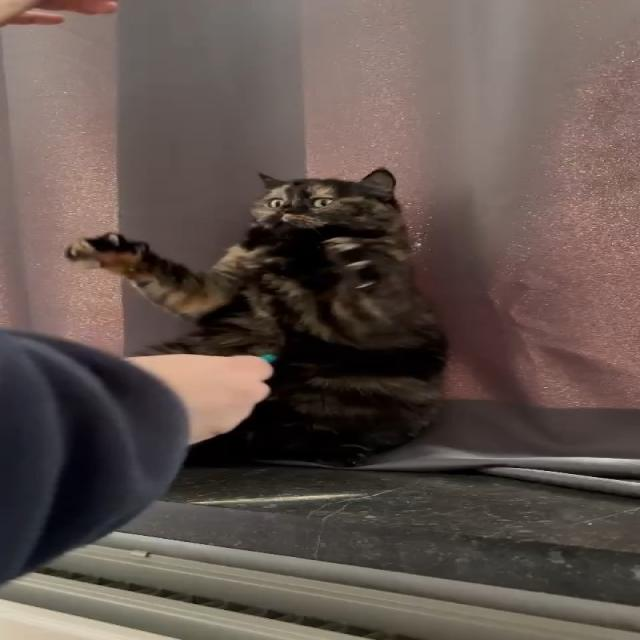authorized: (63, 167, 449, 468)
